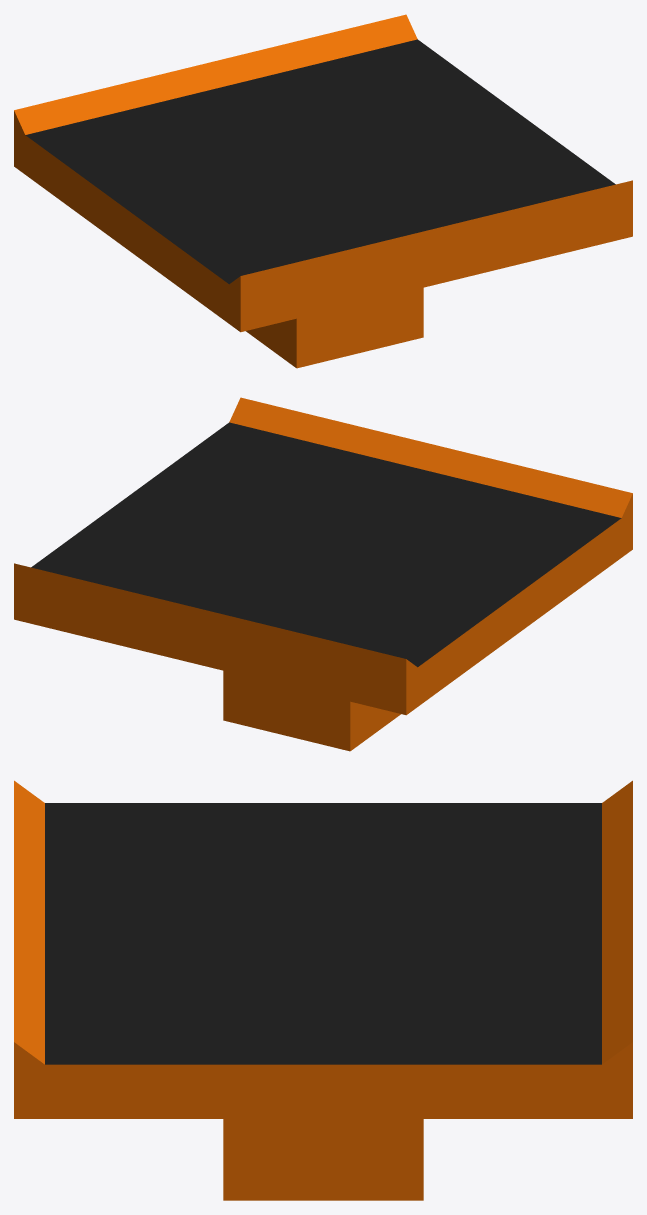
Rendered from conveyor.fbx.
3 views of the same model, one above another, from view 1: azimuth 30°, elevation 25°; view 2: azimuth 150°, elevation 25°; view 3: azimuth 270°, elevation 25° (orthographic). The views are drawn at different scales.
Parts seen in each view (by area): view 1: Cube; view 2: Cube; view 3: Cube.
Part boxes in pixels (bbox=[...]): Cube: bbox=[14, 14, 632, 368]; Cube: bbox=[14, 397, 632, 751]; Cube: bbox=[14, 780, 632, 1200].
Bounding box in the file's own units: 2 × 2 × 0.8808.
